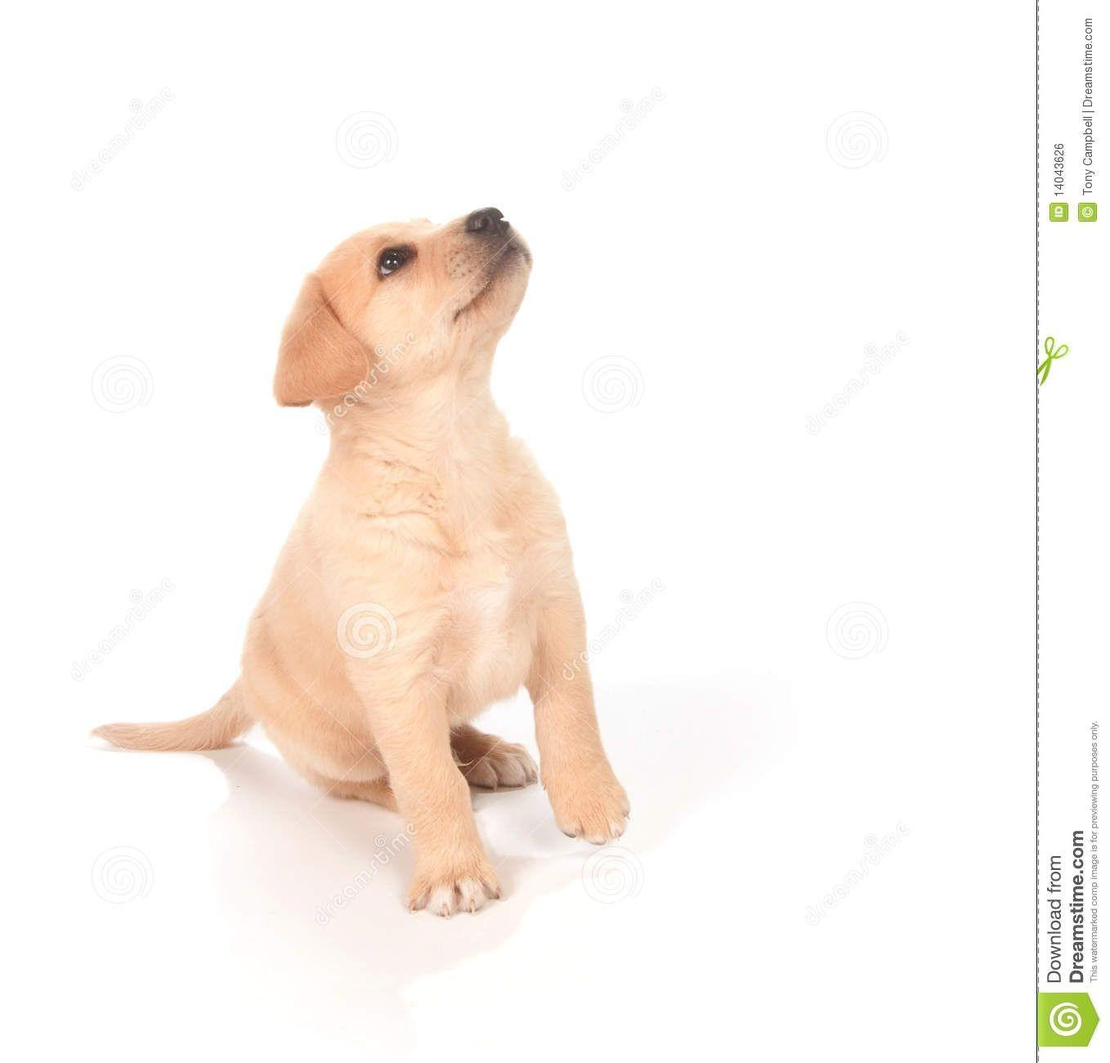puppy-dog: (91, 204, 634, 919)
